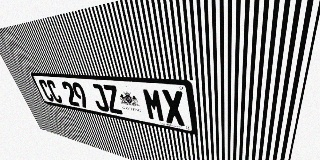2: (60, 81, 80, 107)
9: (70, 82, 90, 109)
C: (45, 80, 64, 104), (38, 79, 55, 102)
J: (89, 83, 110, 112)
M: (142, 88, 166, 123)
X: (161, 89, 186, 126)
Z: (102, 84, 124, 115)
